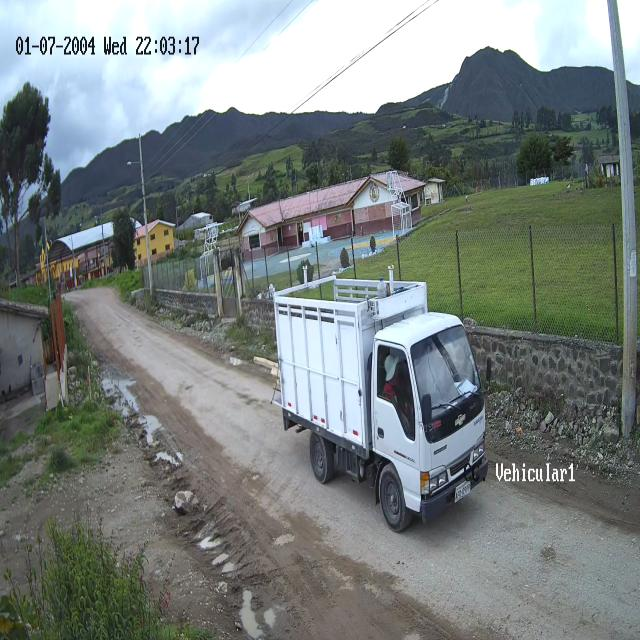TRUCK: (273, 281, 488, 533)
